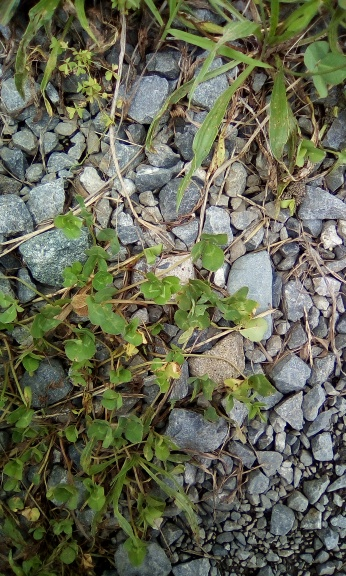4leaf: (139, 271, 183, 307)
